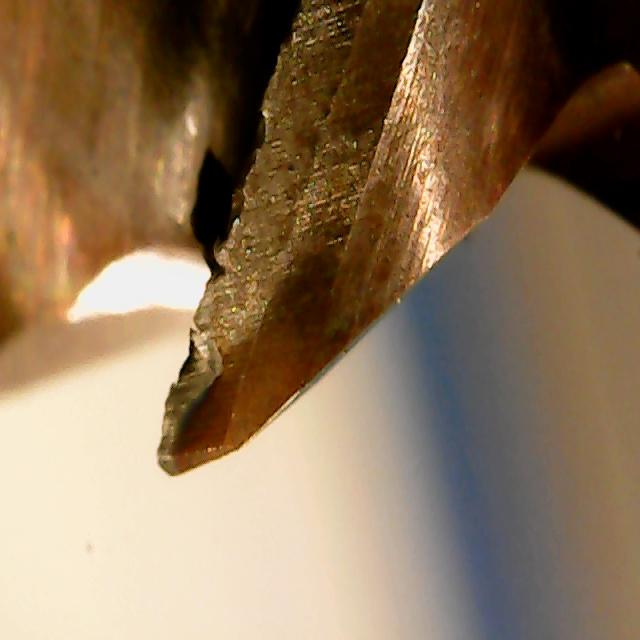Tool-wear-class-2: (148, 268, 306, 482)
